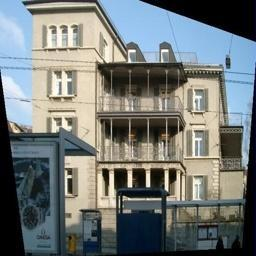building: (23, 0, 256, 254)
